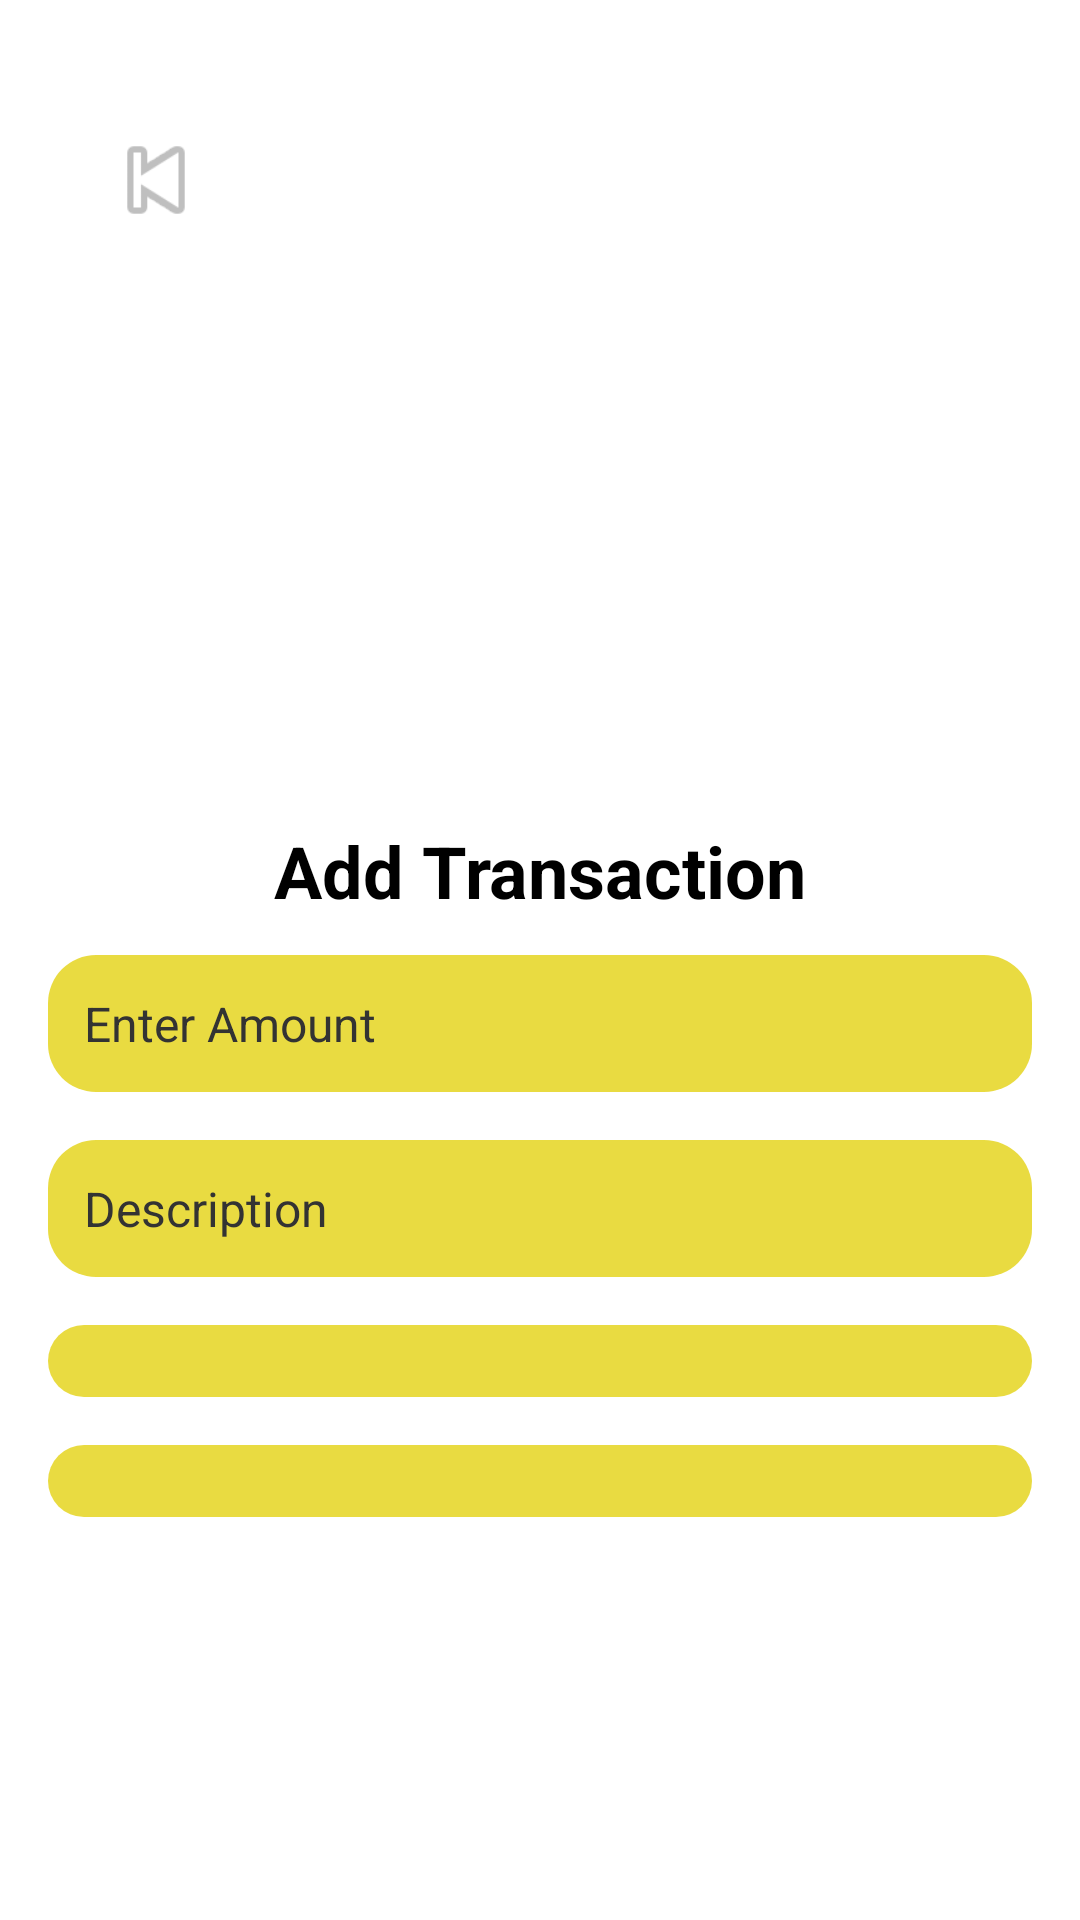

Point at icon controls on the screen. Image size 1080px×1920px, points as [x,y].
Go back: [156,180]
